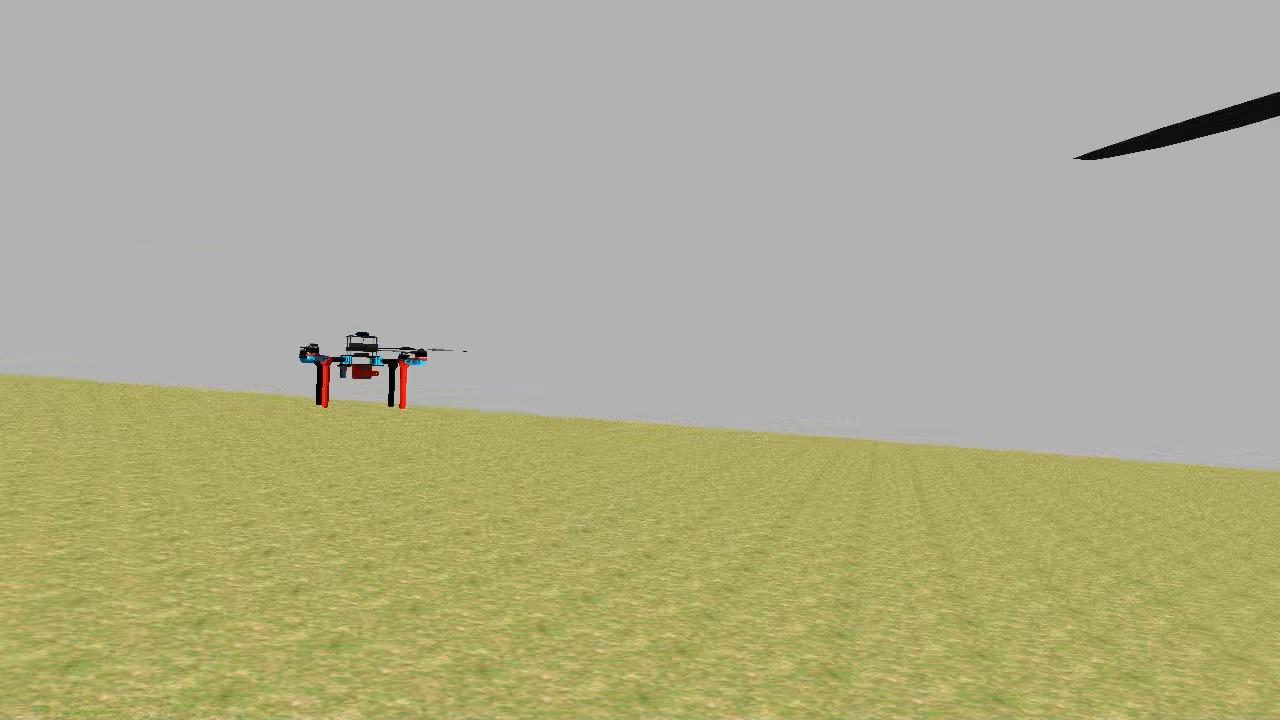UAV: (294, 327, 439, 413)
